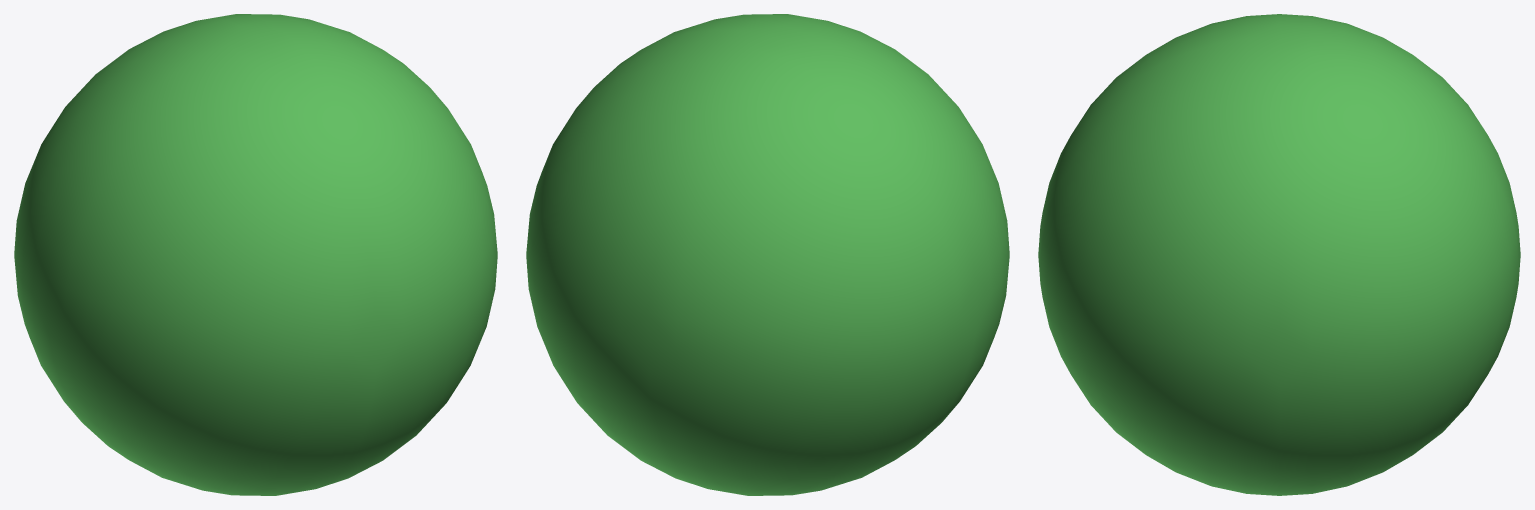
The model's file is expected.gltf.
3 renders of one model, left to right at view 1: azimuth 30°, elevation 25°; view 2: azimuth 150°, elevation 25°; view 3: azimuth 270°, elevation 25°, orthographic.
Bounding box in the file's own units: 40 × 40 × 40.
